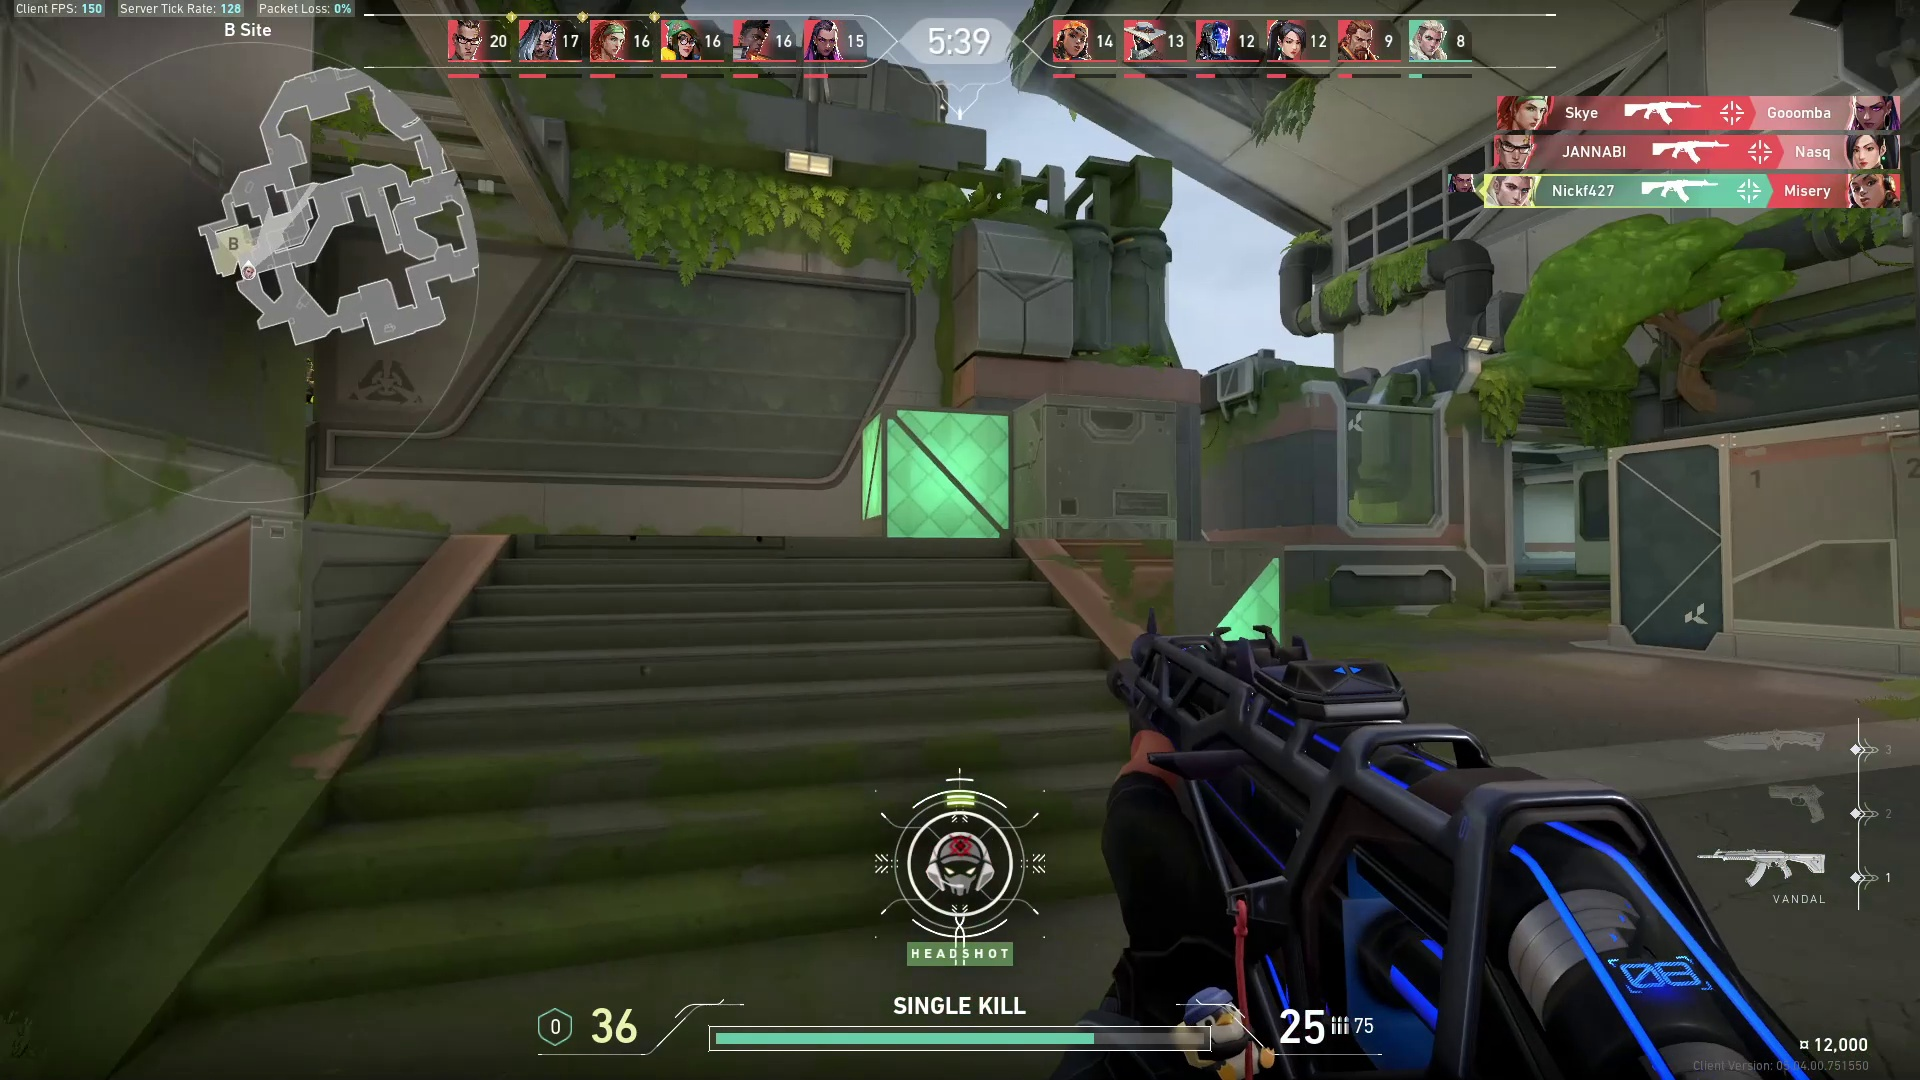enemy_gen: (305, 353, 315, 422)
